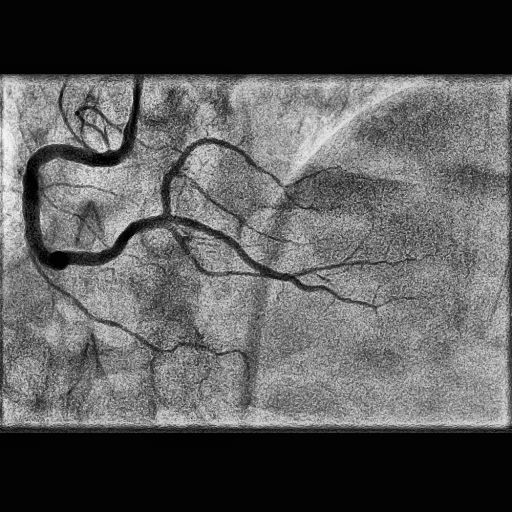pborca: (161, 137, 286, 215)
pda: (171, 215, 417, 309)
rca: (23, 123, 170, 270)
